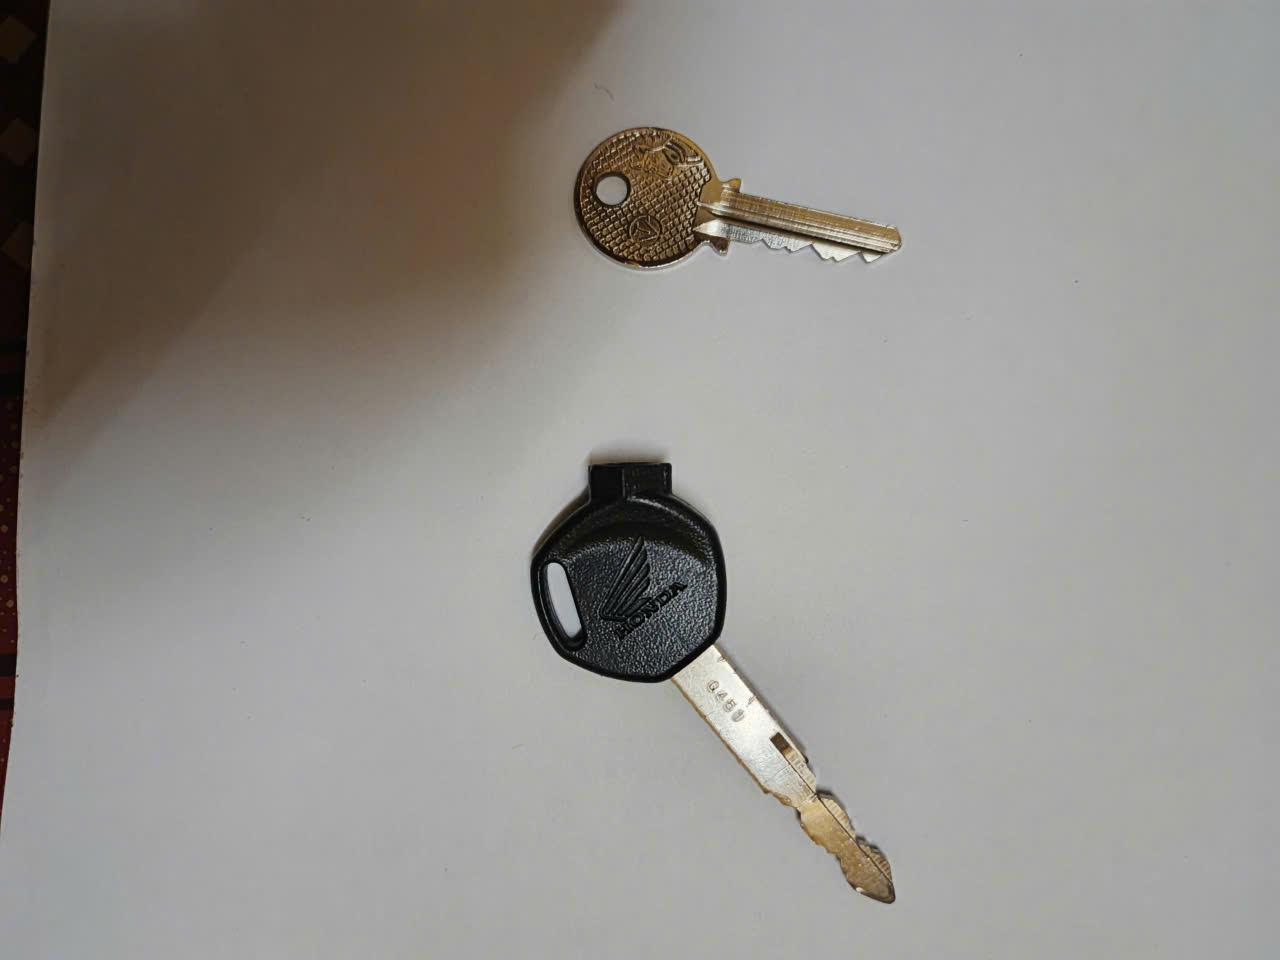Vo co: (528, 461, 904, 905), (578, 124, 904, 273)
